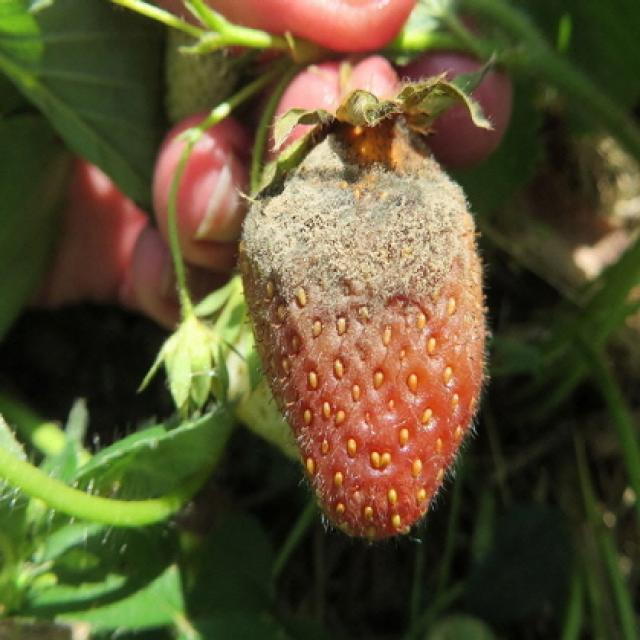Gray Mold: (239, 71, 488, 537)
